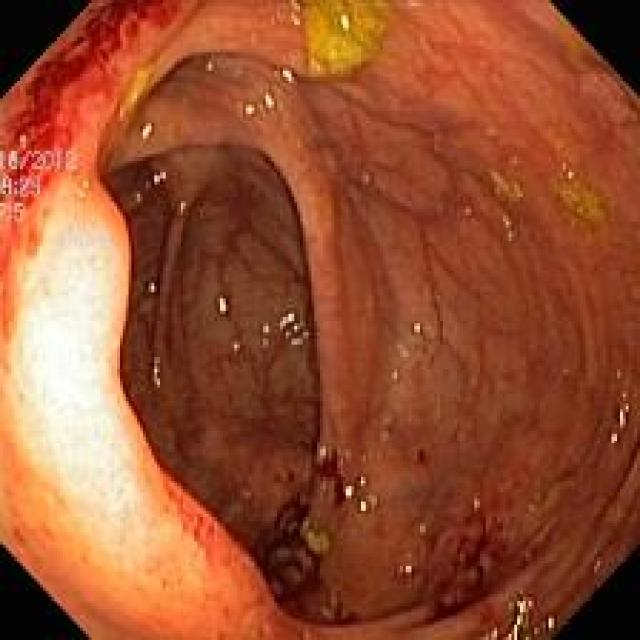ulcerative-colitis-grade-1: (1, 3, 639, 638)
